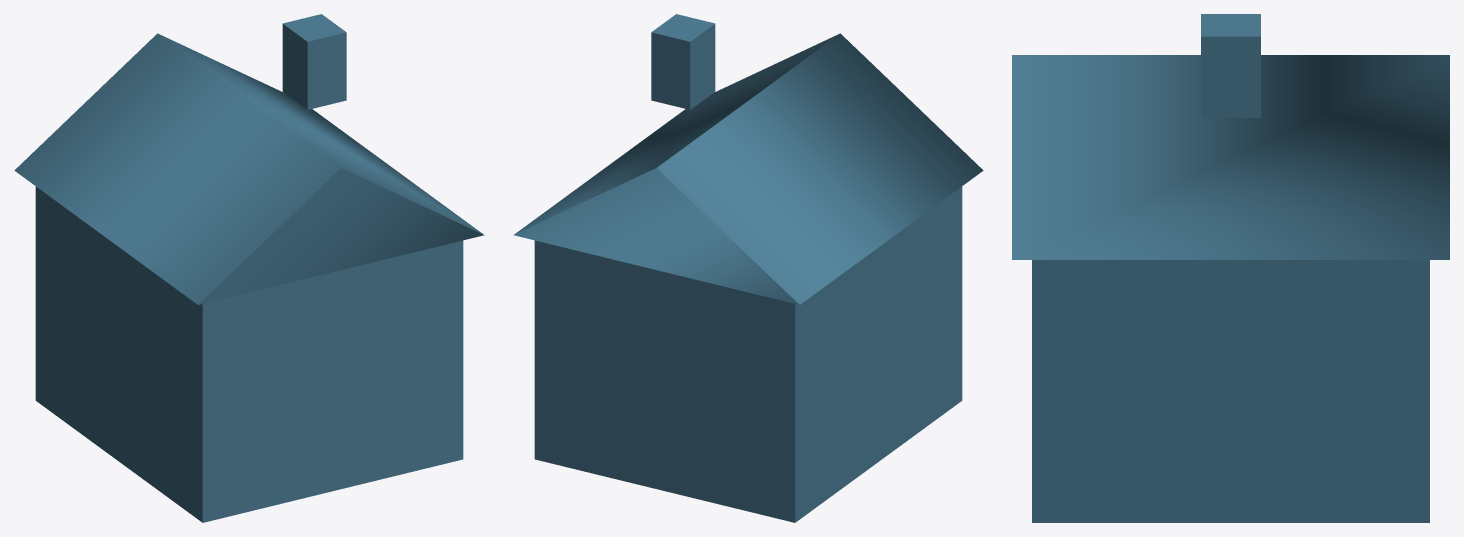
Rendered from waterworks.obj.
3 renders of one model, left to right at view 1: azimuth 30°, elevation 25°; view 2: azimuth 150°, elevation 25°; view 3: azimuth 270°, elevation 25°, orthographic. The views are drawn at different scales.
Visible parts, largest first — view 1: building; view 2: building; view 3: building.
Boxes of the visible parts, left/top/right/bottom form: building: left=14, top=14, right=484, bottom=522; building: left=513, top=14, right=983, bottom=522; building: left=1012, top=14, right=1449, bottom=522.
Bounding box in the file's own units: 1.98 × 2.55 × 2.2.
